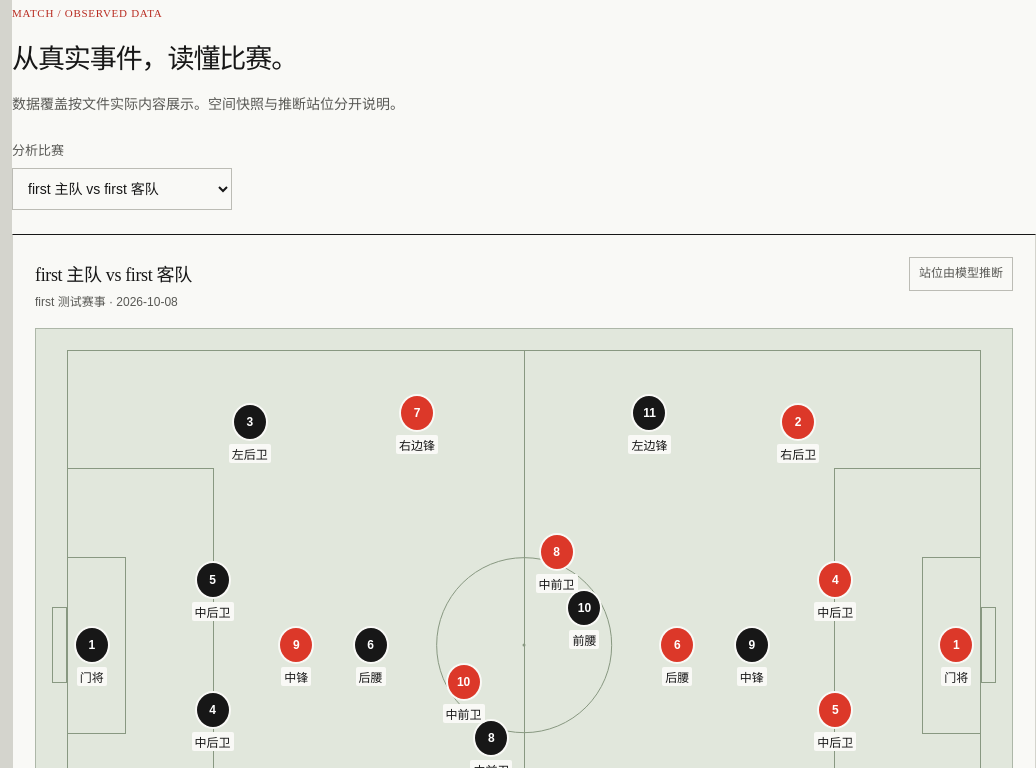
Test: 比赛分析页面真实数据回归 › 切换比赛后读取对应档案和事件，而非沿用上一场或当前战术阵容
Check: the heading "first 主队 vs first 客队" is shown, box [35,260,192,286]
Check: the button with aria-label "选择 first 海港 门将，门将" is shown, box [74,626,110,664]
Select "second 主队 vs second 客队" in the dropdown labelled "分析比赛" at (122, 189), box [12,168,232,210]
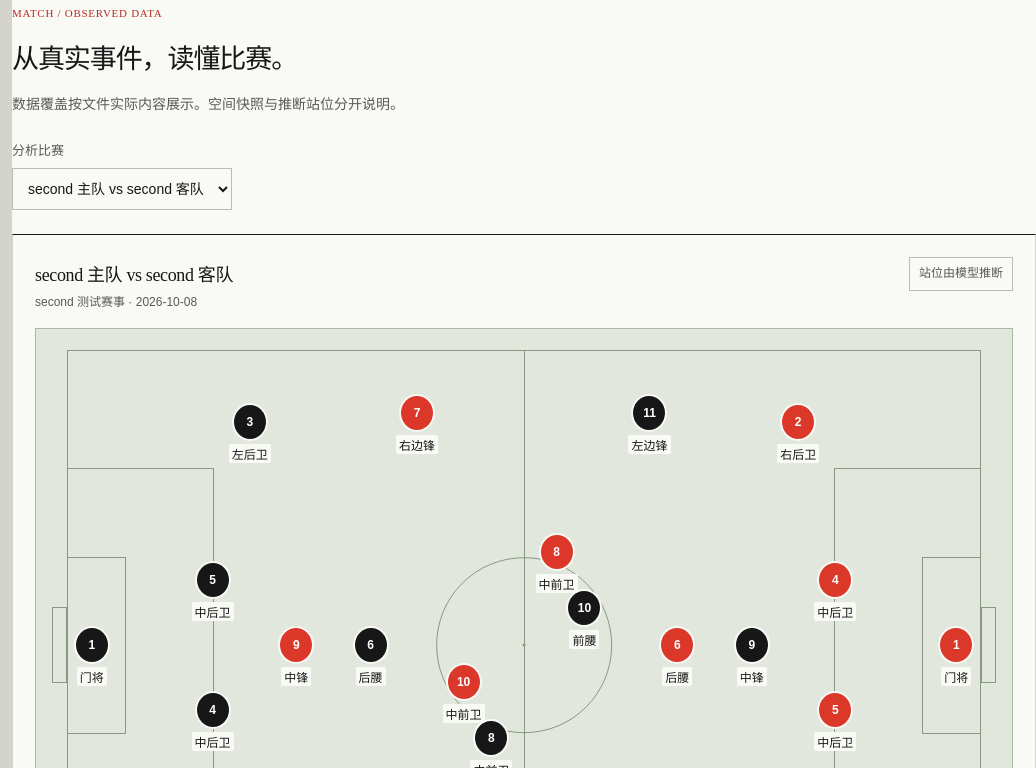
Check: the button with aria-label "选择 second 海港 门将，门将" is shown, box [74,626,110,664]
Check: the heading "second 主队 vs second 客队" is shown, box [35,260,233,286]
